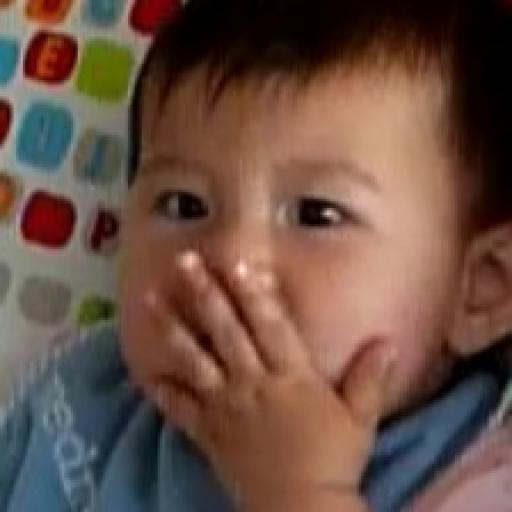Autism: (113, 32, 512, 400)
